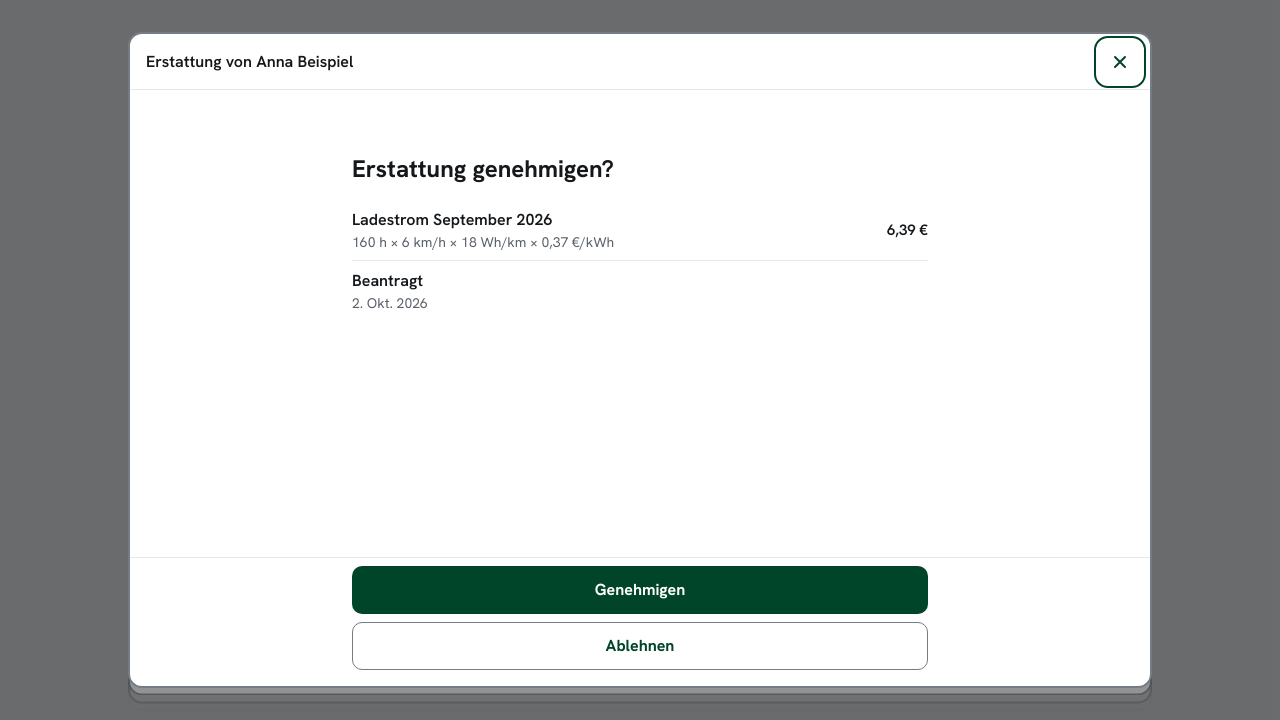
DecideReimbursementPage › lehnt nur mit Grund ab
The image size is (1280, 720).
Click the 4th button "Ablehnen" at (640, 646), box [352,622,928,670]
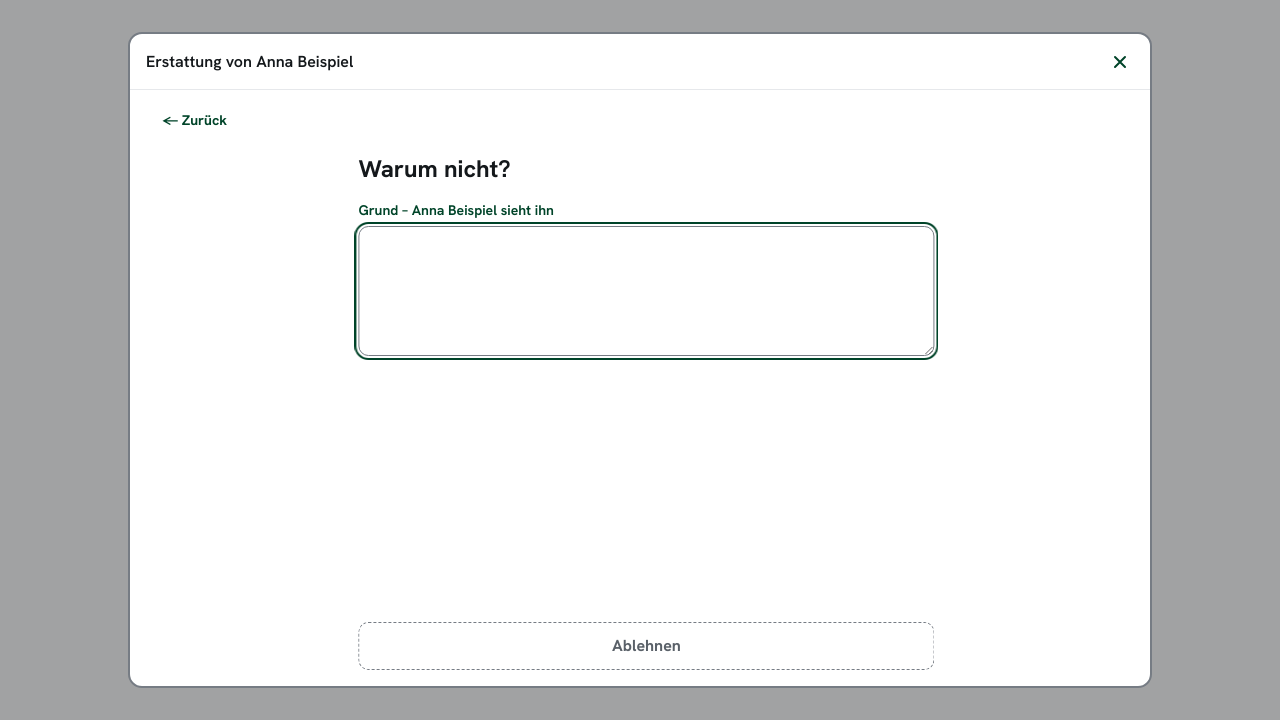
Result: the button "Ablehnen" is disabled at [354,622,930,670]
Type "Monat schon erstattet" into the text box labelled "Grund – Anna Beispiel sieht ihn" at (642, 291), box [354,226,930,356]
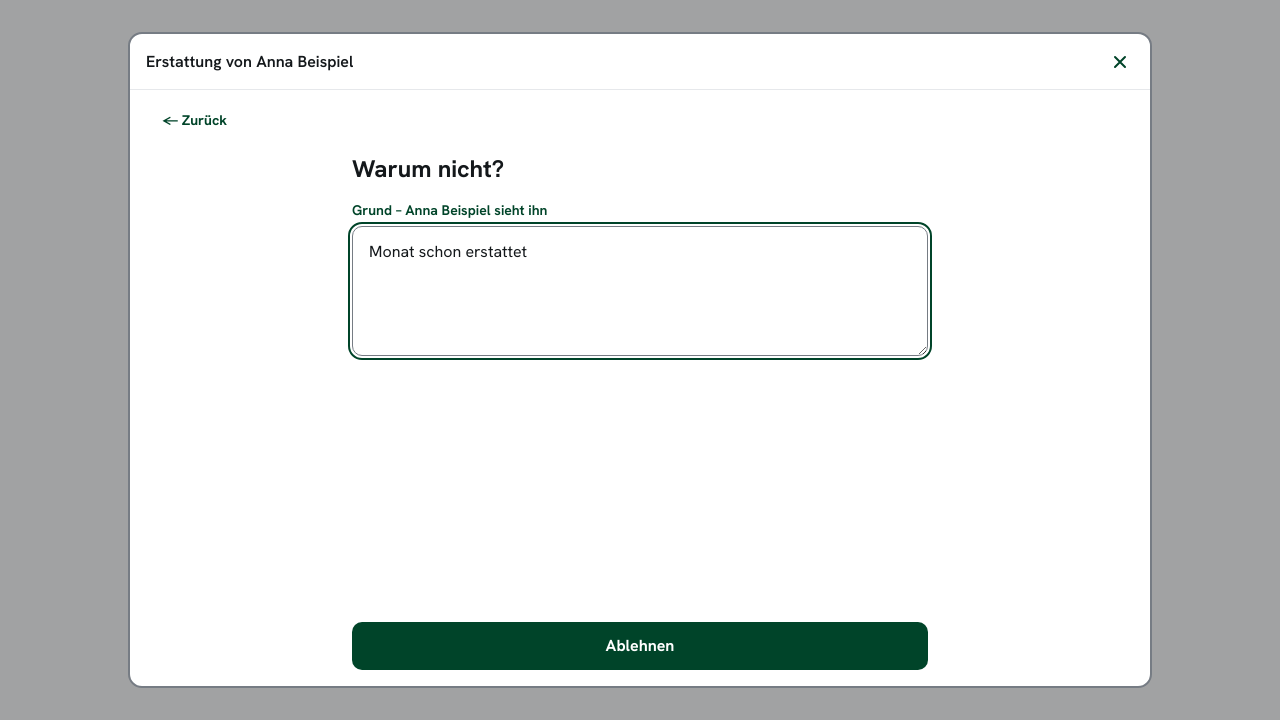
Click the button "Ablehnen" at (640, 646), box [352,622,928,670]
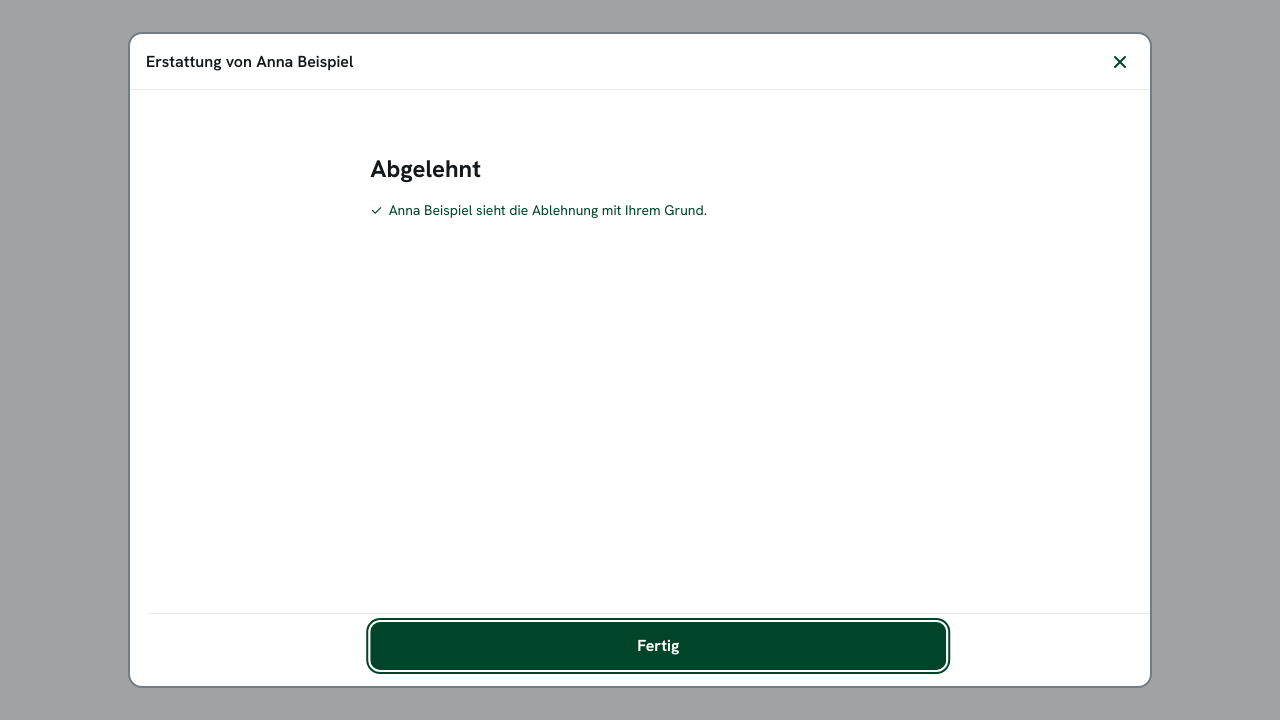
Result: the dialog "Abgelehnt" is shown
